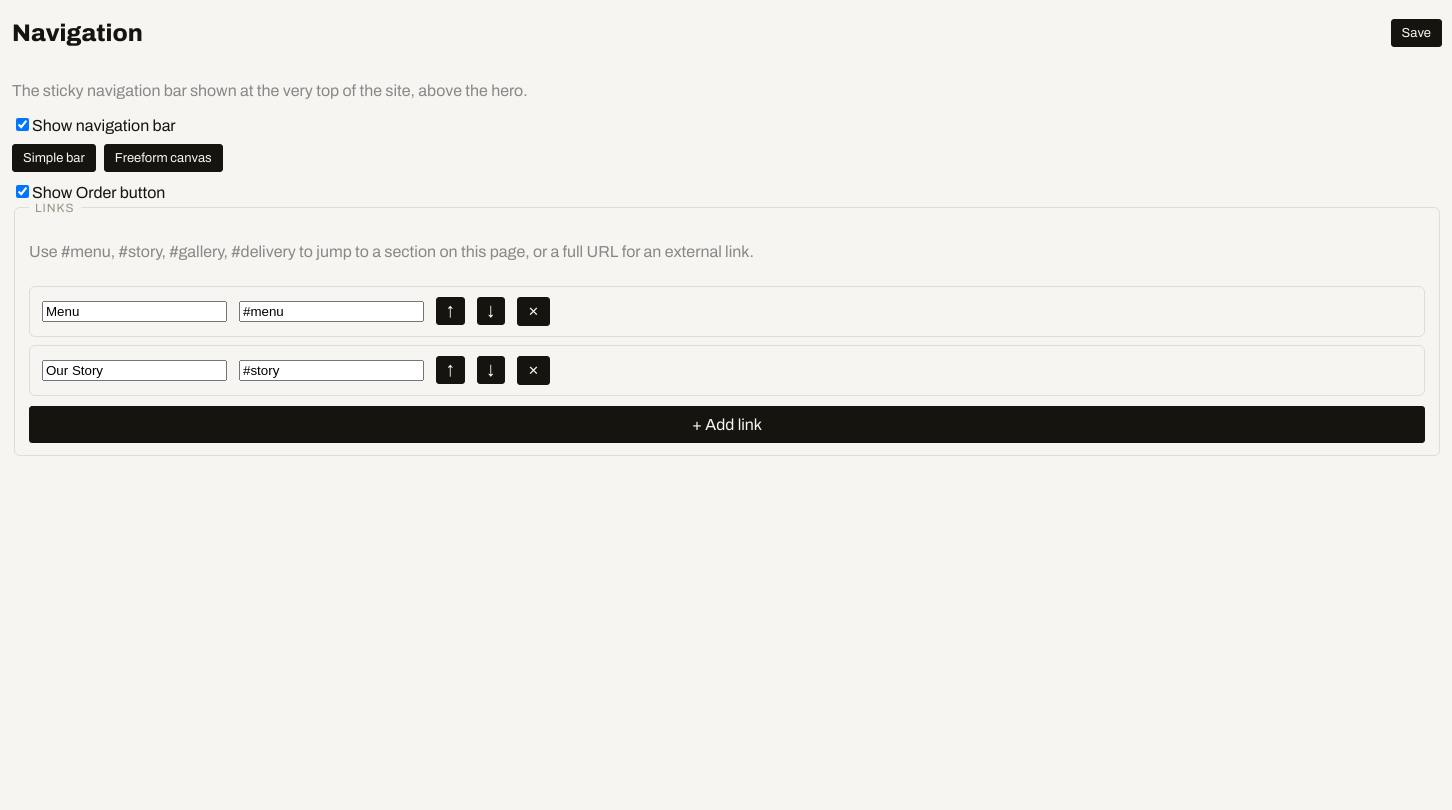
NavbarEditor › switching to Freeform mode shows the canvas editor and hides the simple link list
Expected: the text "Links" is shown, x1=35 y1=201 x2=74 y2=215
Click the button "Freeform canvas" at point(163, 158), box x1=104 y1=144 x2=223 y2=172
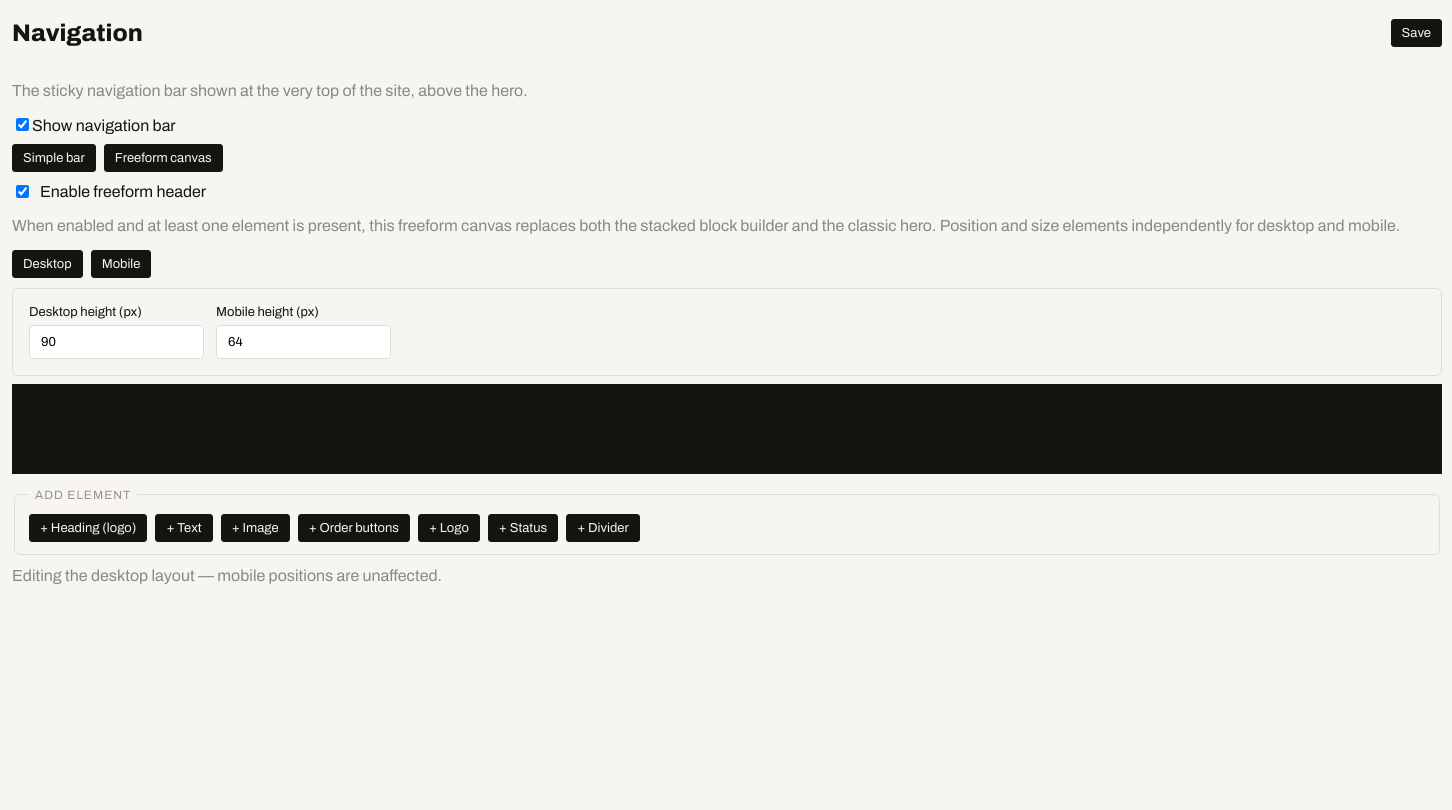
Expected: the checkbox labelled "Enable freeform header" is shown, x1=16 y1=185 x2=29 y2=198
Expected: the button "+ Add link" is gone
